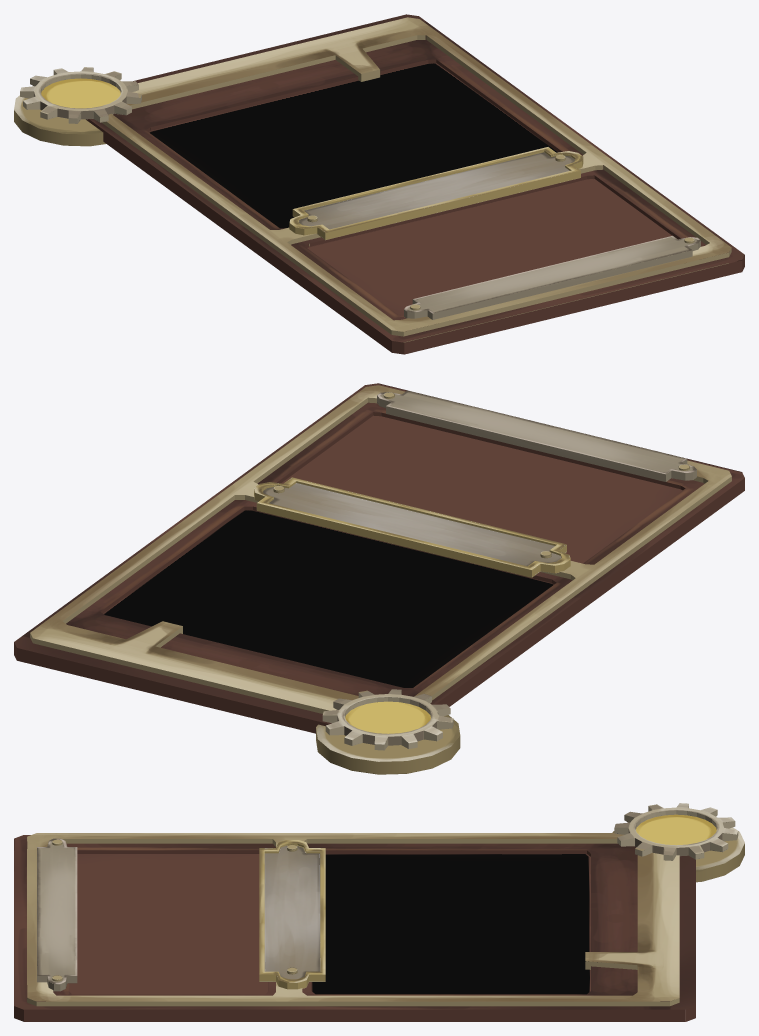
The model's file is Card_main.FBX.
3 views of the same model, one above another, from view 1: azimuth 30°, elevation 25°; view 2: azimuth 150°, elevation 25°; view 3: azimuth 270°, elevation 25° (orthographic). The views are drawn at different scales.
Parts seen in each view (by area): view 1: Box001, Box002, Box003, Box005, Cylinder007, Cylinder001; view 2: Box001, Box002, Box003, Box005, Cylinder007, Cylinder001; view 3: Box001, Box002, Box003, Box005, Cylinder007, Cylinder001.
Part boxes in pixels (bbox=[...]): Box001: bbox=[86, 14, 744, 354]; Box002: bbox=[100, 17, 731, 342]; Box003: bbox=[289, 147, 583, 240]; Box005: bbox=[404, 235, 700, 319]; Cylinder007: bbox=[20, 67, 141, 123]; Cylinder001: bbox=[14, 95, 105, 146]; Box001: bbox=[14, 383, 744, 733]; Box002: bbox=[30, 385, 731, 713]; Box003: bbox=[254, 477, 570, 577]; Box005: bbox=[377, 390, 696, 481]; Cylinder007: bbox=[322, 689, 453, 750]; Cylinder001: bbox=[316, 715, 460, 774]; Box001: bbox=[14, 835, 695, 1021]; Box002: bbox=[27, 833, 679, 1006]; Box003: bbox=[259, 840, 325, 989]; Box005: bbox=[37, 838, 77, 991]; Cylinder007: bbox=[614, 803, 738, 860]; Cylinder001: bbox=[612, 827, 744, 882].
Size of the model in its own units: 141 by 9.6 by 219.
Materials: 8 (8 with a texture image).
